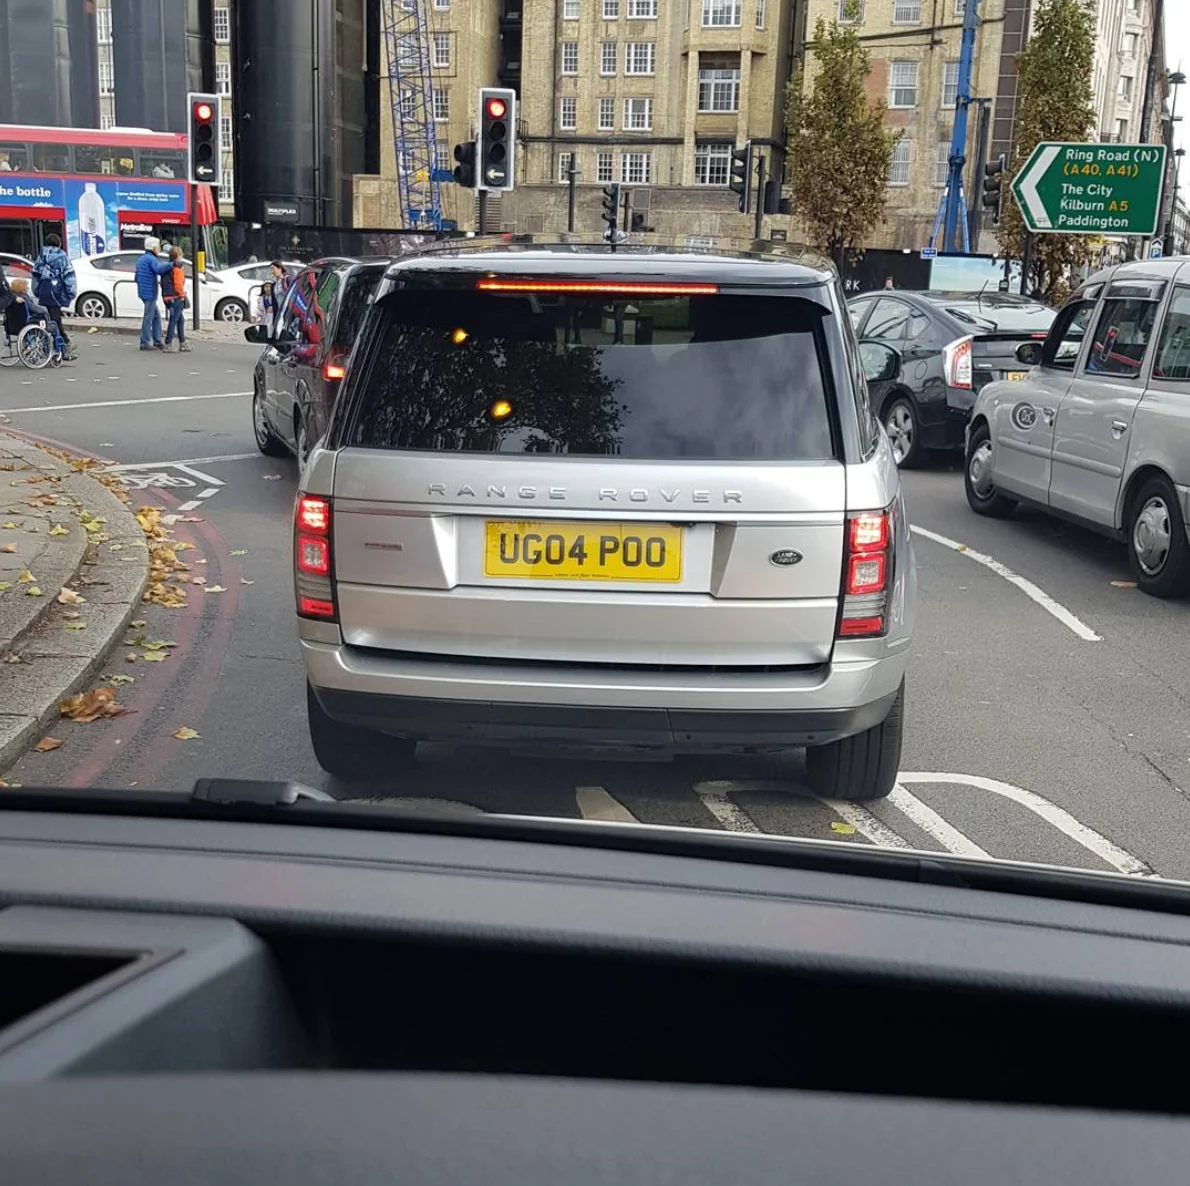number_plate: (452, 513, 704, 579)
